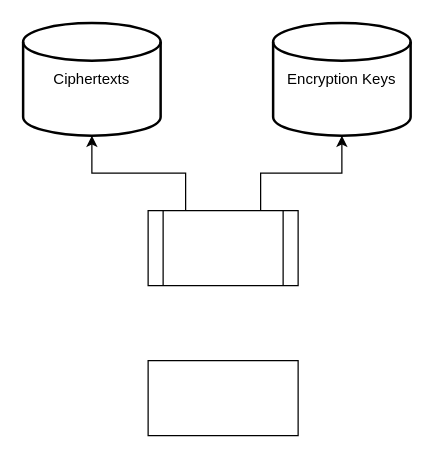
Image size: 433x458. Some labels were removed from this diagram. Here are the shapes that lost their labels. From the top down, the box of each, then its label:
(147, 209, 298, 286): Deterministic Values
(147, 359, 298, 436): Token
